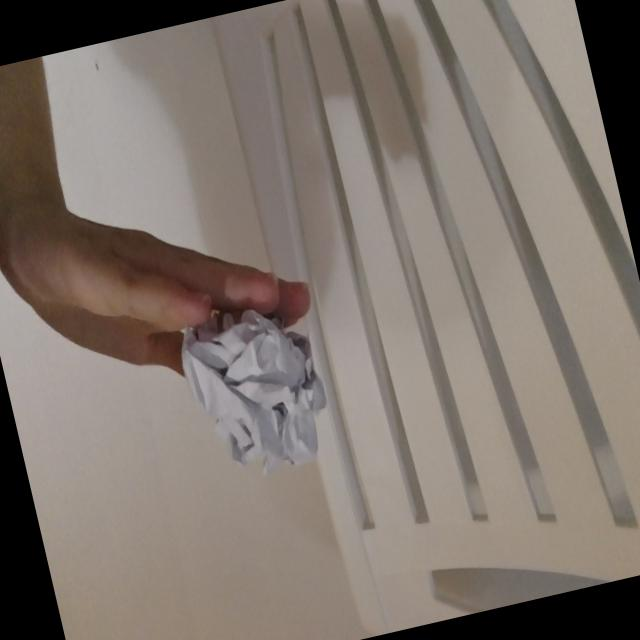crumpled_paper: (171, 290, 343, 492)
